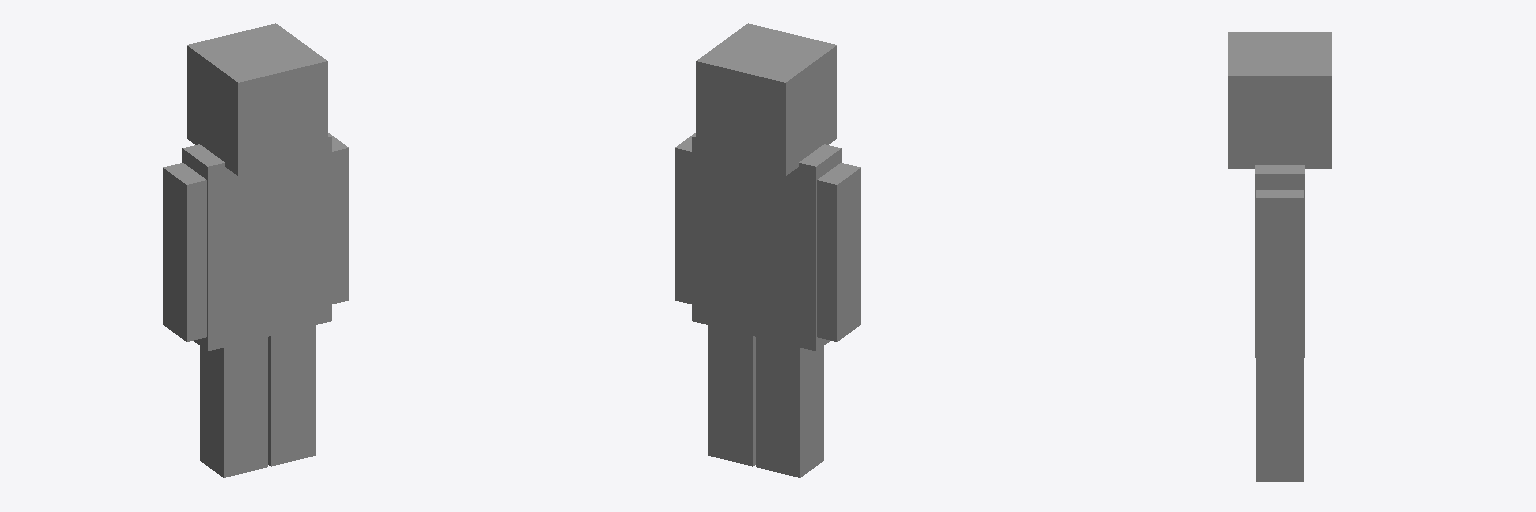
Rendered from character_static.obj.
3 renders of one model, left to right at view 1: azimuth 30°, elevation 25°; view 2: azimuth 150°, elevation 25°; view 3: azimuth 270°, elevation 25°, orthographic.
Visible parts, largest first — view 1: Cube.001; view 2: Cube.001; view 3: Cube.001.
Part boxes in pixels (x1,y1,x2,y2): Cube.001: (163, 23, 348, 477); Cube.001: (675, 23, 860, 477); Cube.001: (1228, 32, 1331, 481).
Bounding box in the file's own units: 0.7838 × 1.87 × 0.432.